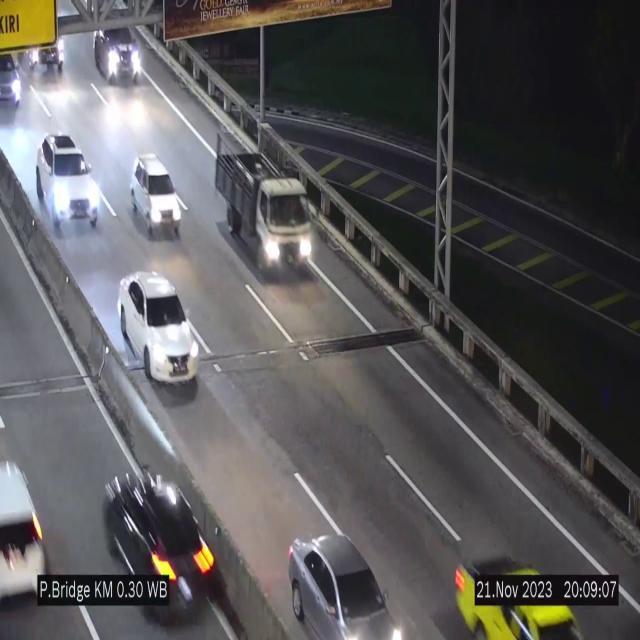Car: (118, 272, 198, 390), (36, 132, 100, 228), (131, 155, 181, 238), (90, 19, 144, 92)
Truck: (214, 131, 314, 278)
